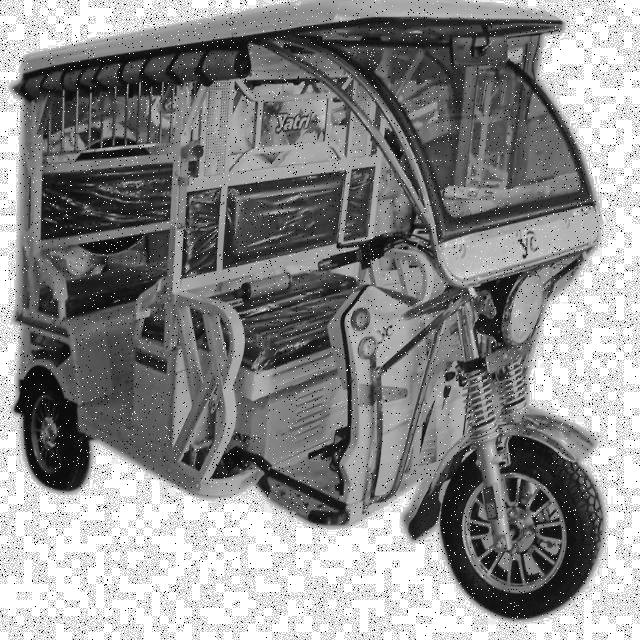Toto: (10, 0, 611, 630)
